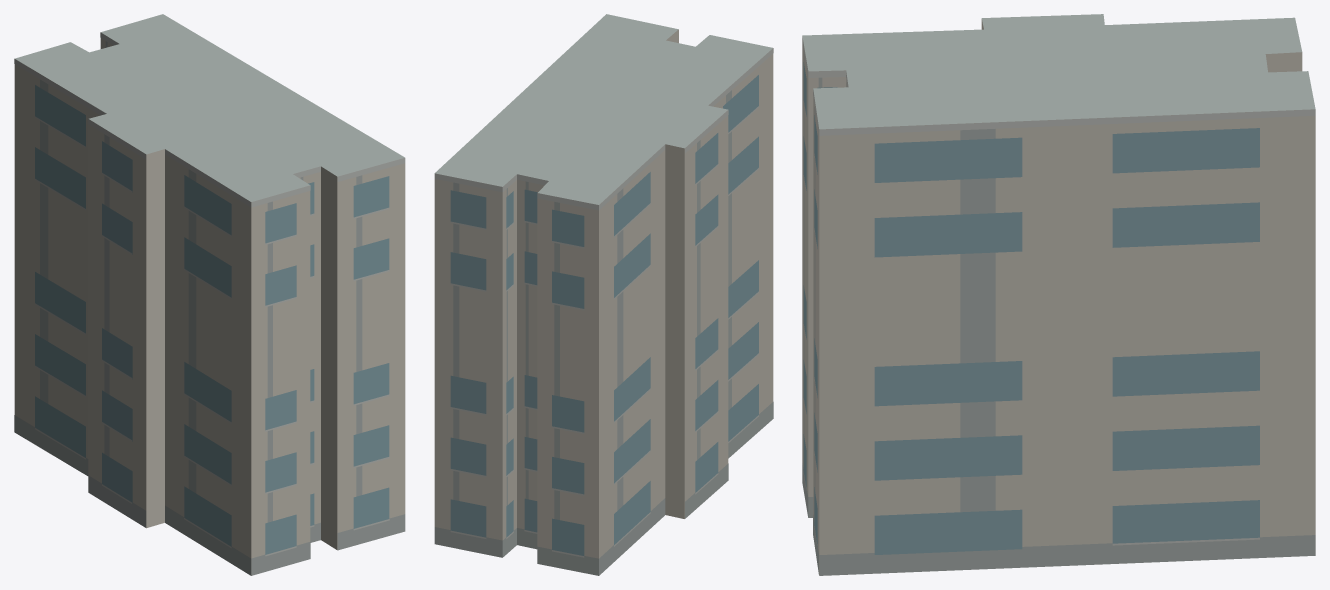
File: survey-upis-32961958.glb
3 renders of one model, left to right at view 1: azimuth 30°, elevation 25°; view 2: azimuth 150°, elevation 25°; view 3: azimuth 270°, elevation 25°, orthographic. The views are drawn at different scales.
Visible parts, largest first — view 1: survey-upis-32961958.tmp; view 2: survey-upis-32961958.tmp; view 3: survey-upis-32961958.tmp.
Part boxes in pixels (bbox=[...]): survey-upis-32961958.tmp: bbox=[14, 14, 405, 575]; survey-upis-32961958.tmp: bbox=[434, 14, 773, 575]; survey-upis-32961958.tmp: bbox=[802, 14, 1315, 575].
Size of the model in its own units: 9.21 by 16.6 by 17.31.
